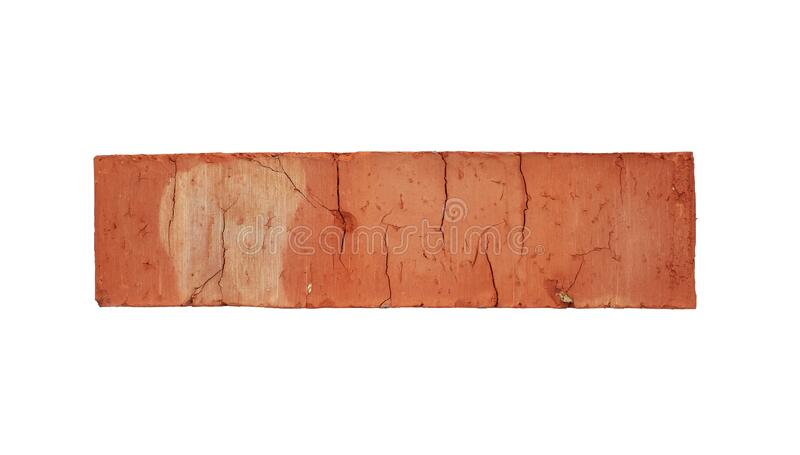brick: (95, 153, 697, 310)
